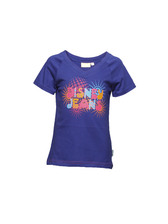clothoes: (27, 44, 139, 175)
